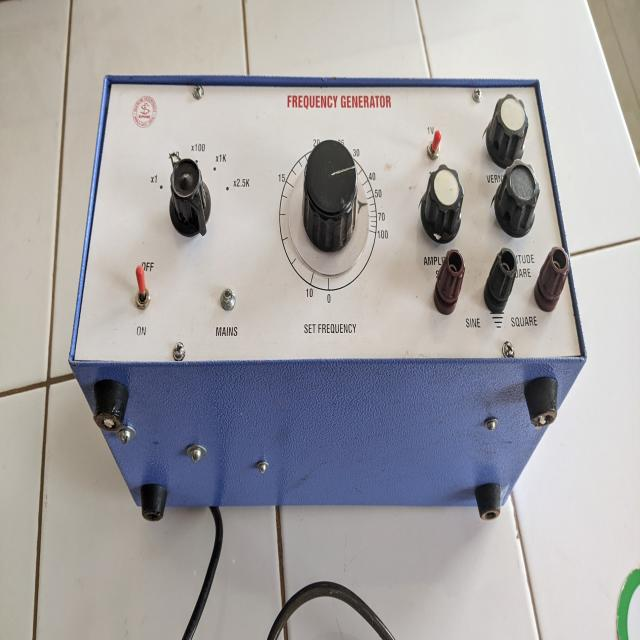Analog Frequency Generator: (71, 58, 592, 526)
